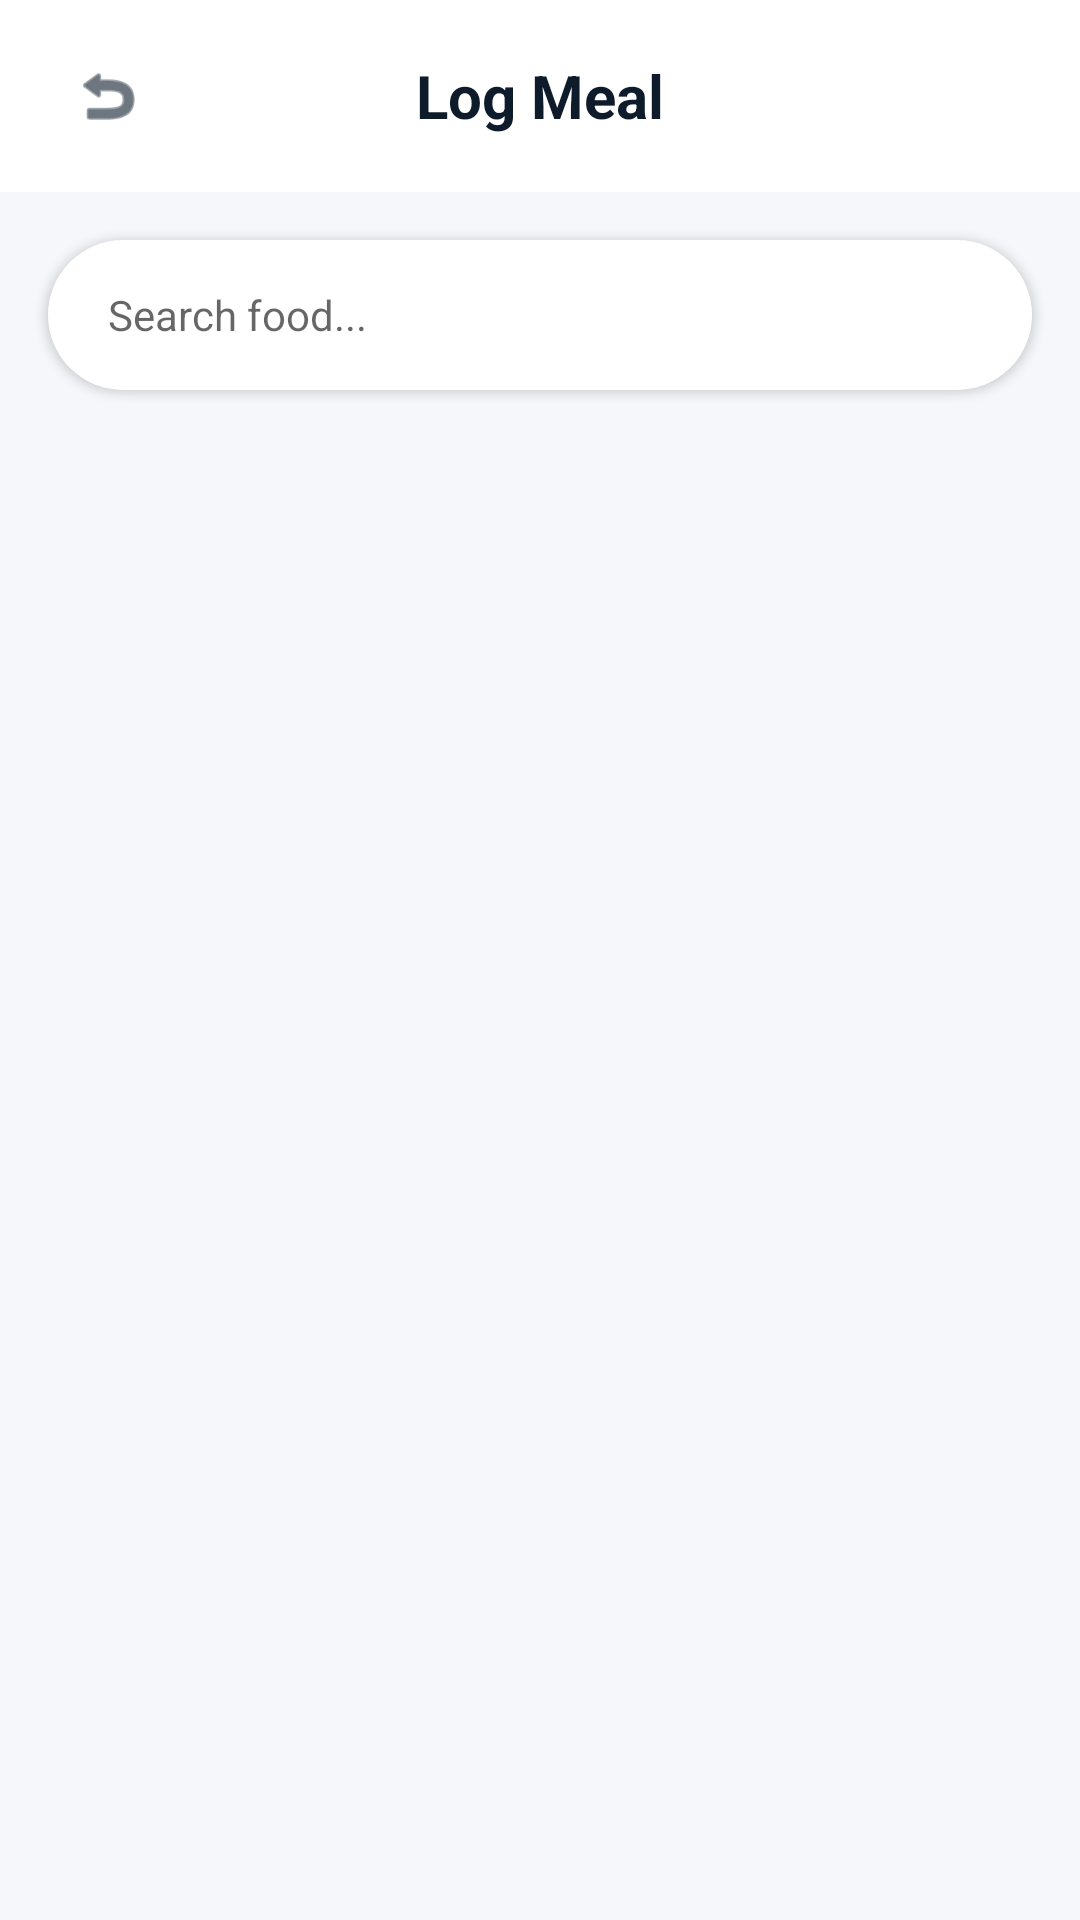

Icons on this 1080w x 1920h Android screen, each with the point to tap as (x,y):
revert: (109,96)
